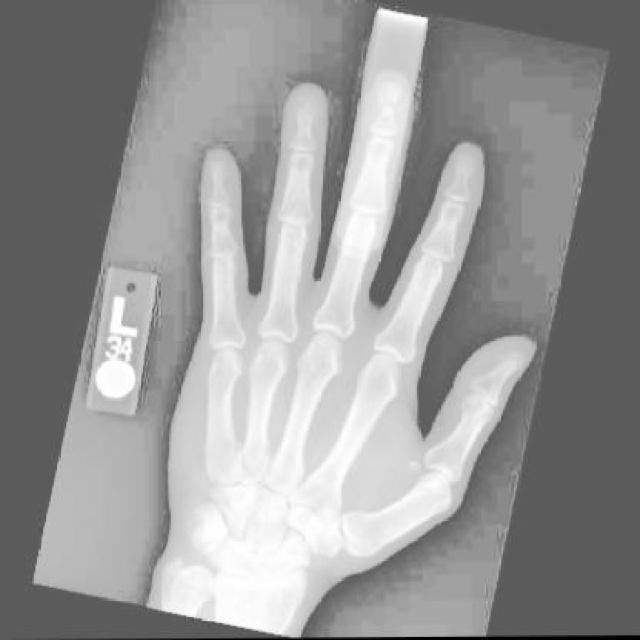Fracture: (290, 95, 319, 128), (371, 86, 400, 117)
